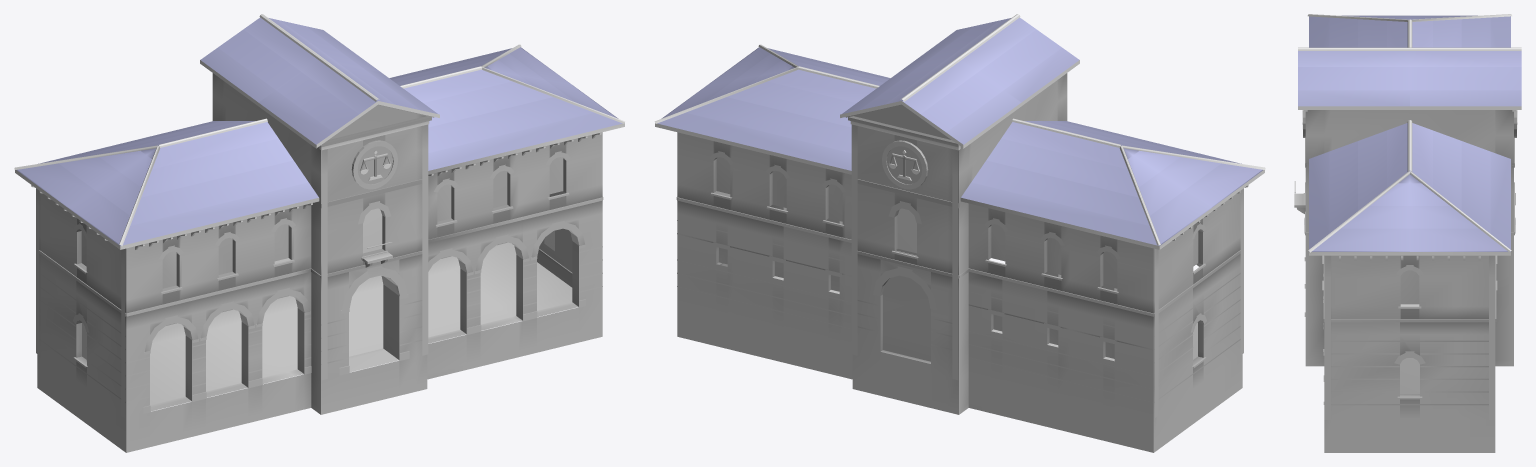
Rendered from ex_shell.glb.
3 views of the same model, side by side, from view 1: azimuth 30°, elevation 25°; view 2: azimuth 150°, elevation 25°; view 3: azimuth 270°, elevation 25° (orthographic). The views are drawn at different scales.
Visible parts, largest first — view 1: ex_shell_MC_Stone, ex_shell_MC_Roof, ex_shell_MC_Glass, ex_shell_MC_Timber; view 2: ex_shell_MC_Stone, ex_shell_MC_Roof, ex_shell_MC_Glass, ex_shell_MC_Timber; view 3: ex_shell_MC_Stone, ex_shell_MC_Roof, ex_shell_MC_Timber, ex_shell_MC_Glass.
Boxes of the visible parts, x1=… form: ex_shell_MC_Stone: x1=36, y1=73, x2=603, y2=452; ex_shell_MC_Roof: x1=14, y1=14, x2=625, y2=246; ex_shell_MC_Glass: x1=81, y1=150, x2=563, y2=359; ex_shell_MC_Timber: x1=15, y1=60, x2=624, y2=263; ex_shell_MC_Stone: x1=676, y1=73, x2=1243, y2=452; ex_shell_MC_Roof: x1=654, y1=14, x2=1265, y2=246; ex_shell_MC_Glass: x1=716, y1=150, x2=1198, y2=359; ex_shell_MC_Timber: x1=655, y1=60, x2=1264, y2=249; ex_shell_MC_Stone: x1=1294, y1=110, x2=1516, y2=452; ex_shell_MC_Roof: x1=1298, y1=14, x2=1521, y2=252; ex_shell_MC_Timber: x1=1298, y1=106, x2=1521, y2=260; ex_shell_MC_Glass: x1=1302, y1=110, x2=1517, y2=393.
Size of the model in its own units: 36.17 by 20.84 by 14.65.
